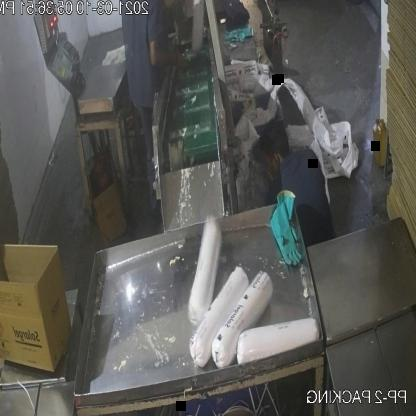no_glove: (146, 35, 190, 85)
